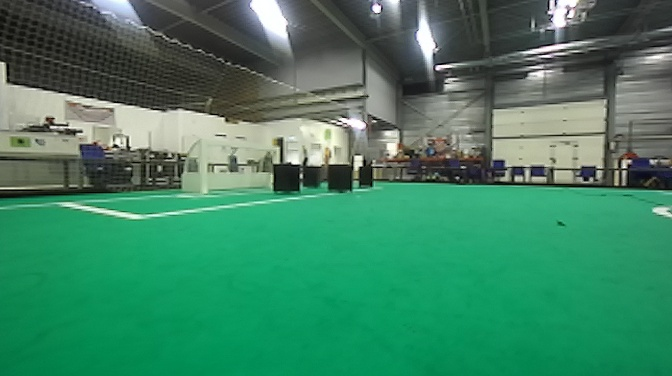goalpost: (197, 132, 213, 195), (270, 145, 282, 162)
